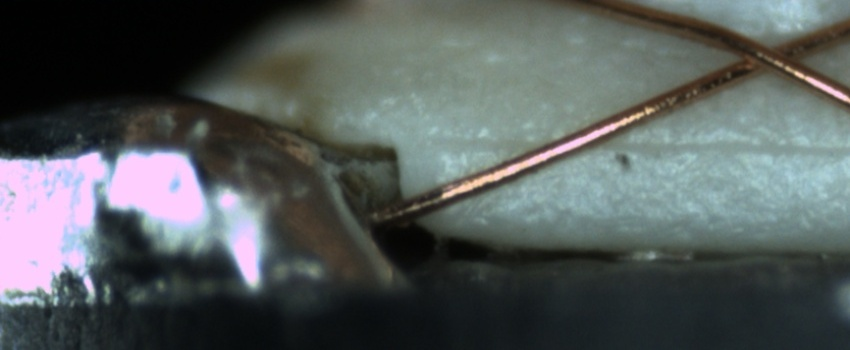CL: (718, 26, 820, 84)
DL: (457, 111, 850, 180)
